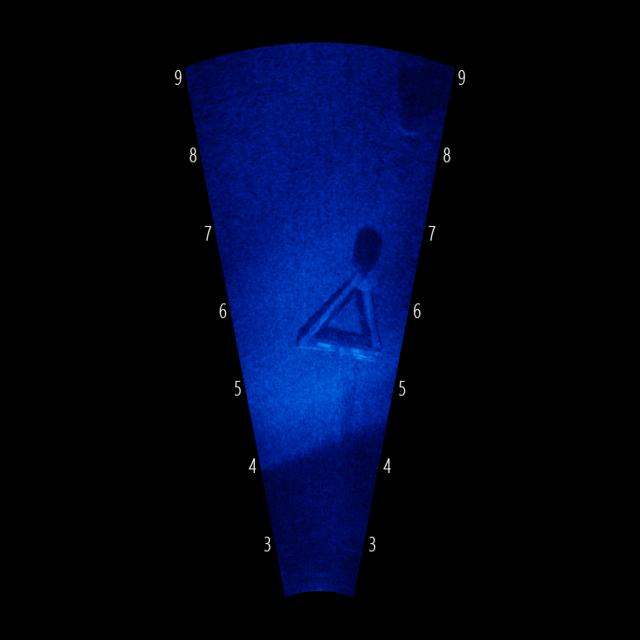triangle: (273, 230, 401, 376)
